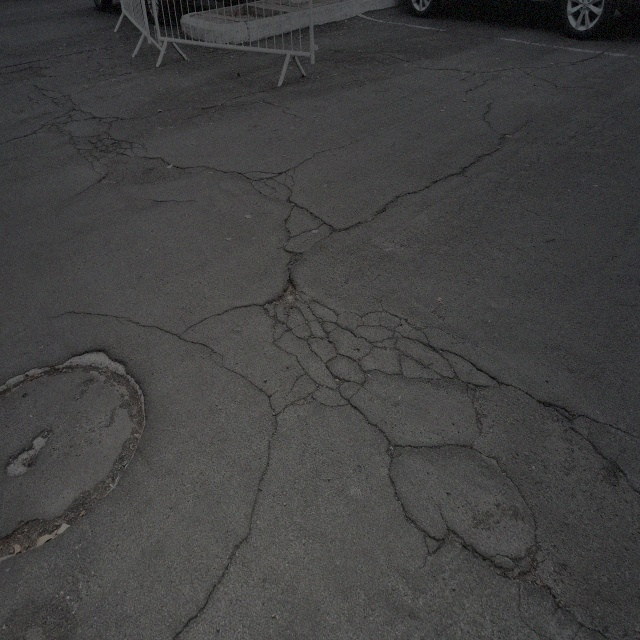pothole: (281, 273, 299, 302)
